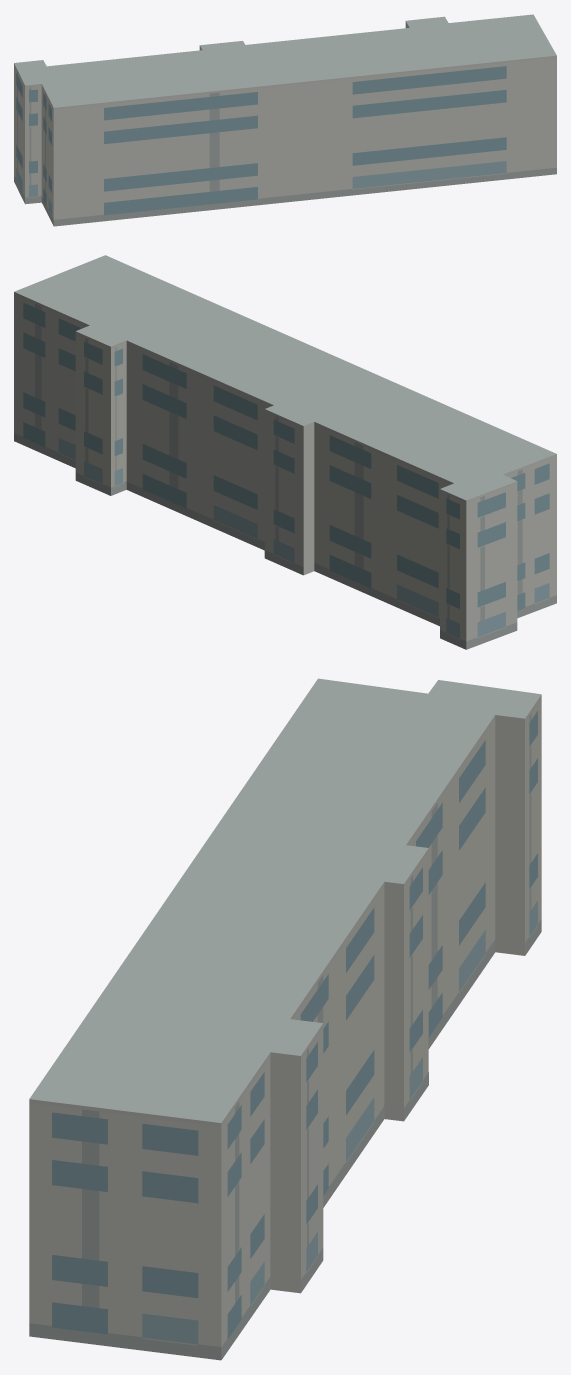
The model's file is residential-4985ef48-2c19-4ff0-918e-4371796ce5af.glb.
3 renders of one model, top to bottom at view 1: azimuth 30°, elevation 25°; view 2: azimuth 150°, elevation 25°; view 3: azimuth 270°, elevation 25°, orthographic. The views are drawn at different scales.
Parts seen in each view (by area): view 1: residential-4985ef48-2c19-4ff0-918e-4371796ce5af.tmp; view 2: residential-4985ef48-2c19-4ff0-918e-4371796ce5af.tmp; view 3: residential-4985ef48-2c19-4ff0-918e-4371796ce5af.tmp.
Part boxes in pixels (x1,y1,x2,y2): residential-4985ef48-2c19-4ff0-918e-4371796ce5af.tmp: (14,14,556,226); residential-4985ef48-2c19-4ff0-918e-4371796ce5af.tmp: (14,255,556,649); residential-4985ef48-2c19-4ff0-918e-4371796ce5af.tmp: (29,678,541,1360).
Size of the model in its own units: 61.28 by 15.25 by 29.86.
